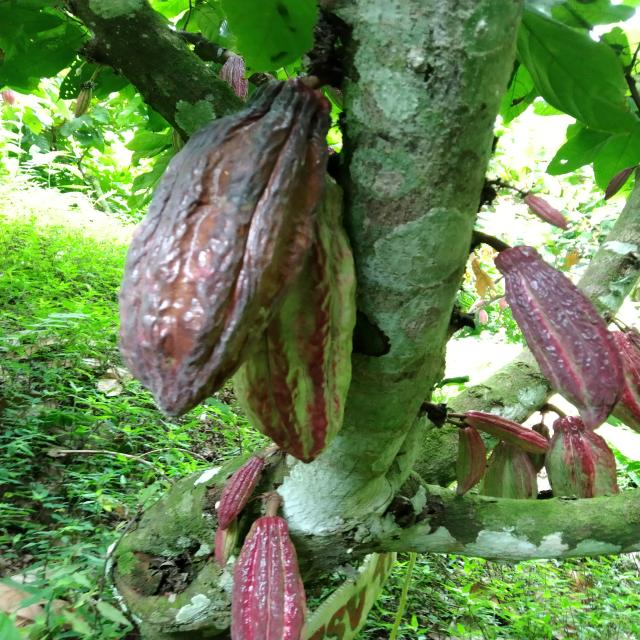Fitoftora: (114, 69, 326, 418)
Sana: (491, 243, 624, 427), (249, 304, 356, 471), (232, 516, 307, 640), (544, 412, 616, 510), (456, 405, 559, 460), (218, 451, 265, 536), (452, 416, 497, 501), (518, 193, 572, 235)
